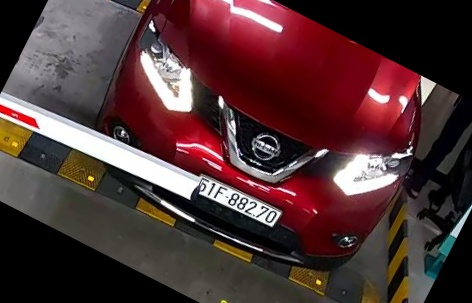plate: (193, 168, 293, 231)
